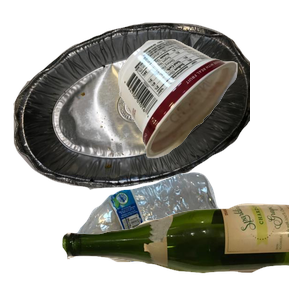glass: (60, 201, 300, 300)
metal: (11, 20, 251, 200)
plastic: (63, 170, 278, 300)
trash: (116, 36, 300, 187)
